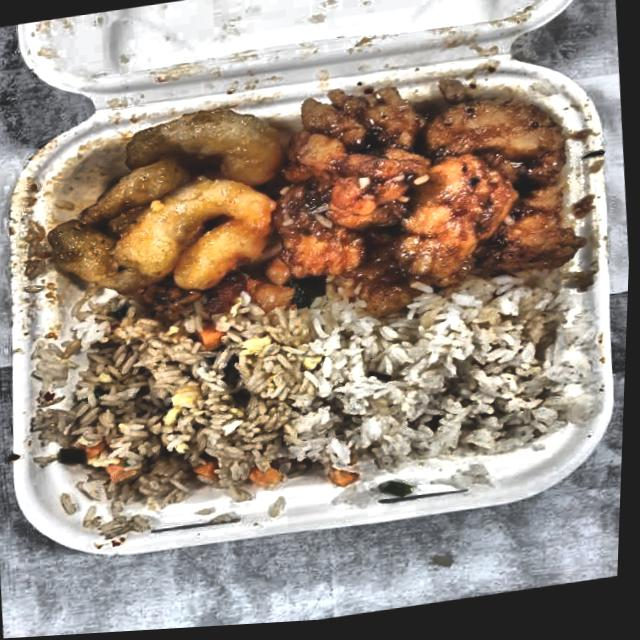Food: (247, 61, 595, 337), (273, 263, 613, 487), (34, 96, 303, 340), (39, 297, 312, 526)
